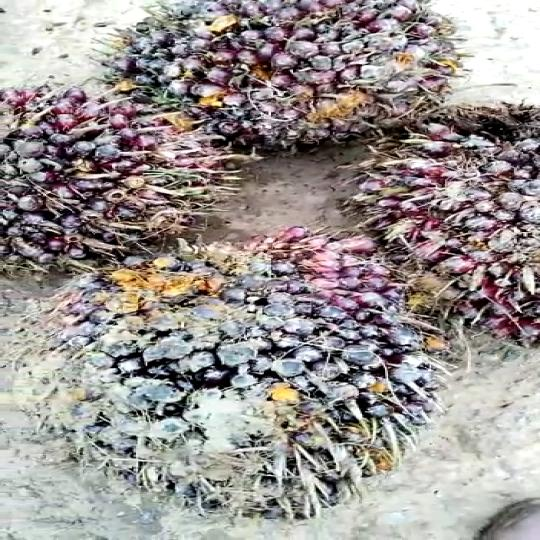kurang masak: (52, 230, 419, 512), (93, 0, 501, 145), (0, 83, 230, 266)
